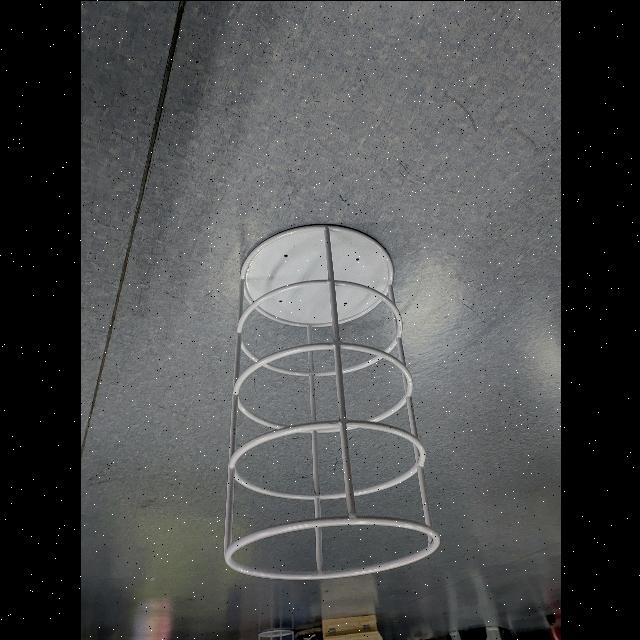S: (218, 220, 442, 582)
